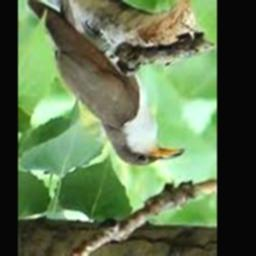Cuckoo: (28, 0, 186, 166)
